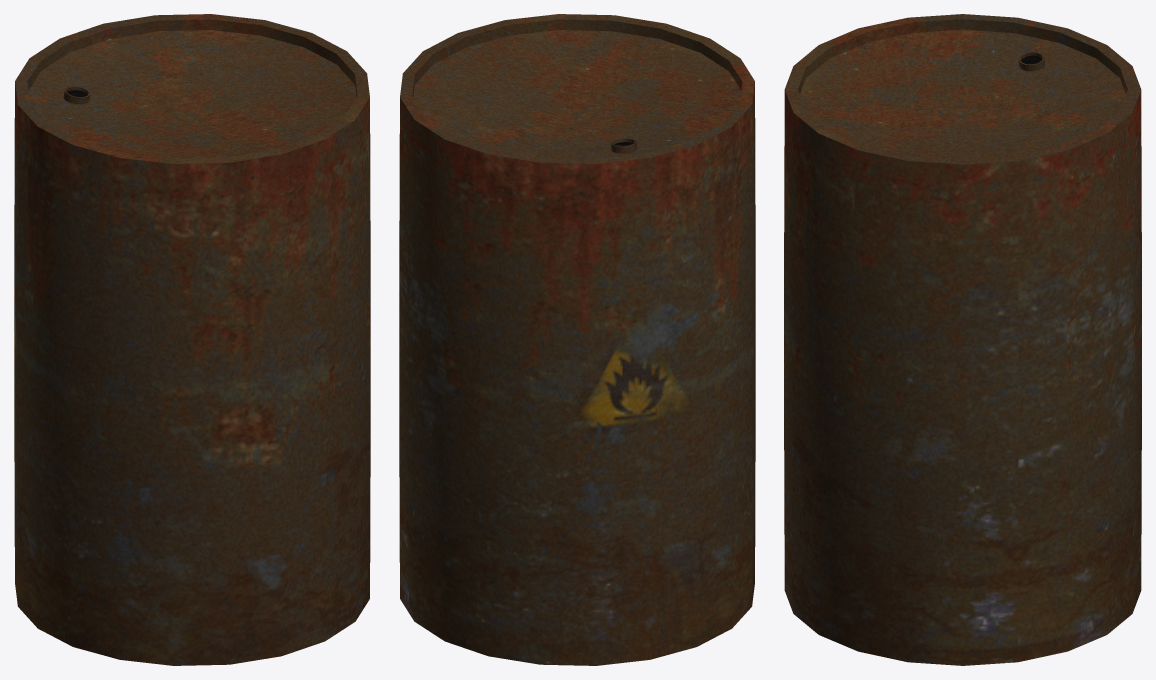
Rendered from container_rbarrel.dae.
3 renders of one model, left to right at view 1: azimuth 30°, elevation 25°; view 2: azimuth 150°, elevation 25°; view 3: azimuth 270°, elevation 25°, orthographic.
Visible parts, largest first — view 1: polySurface1; view 2: polySurface1; view 3: polySurface1.
Boxes of the visible parts, left/top/right/bottom form: polySurface1: left=14, top=14, right=370, bottom=665; polySurface1: left=399, top=14, right=755, bottom=665; polySurface1: left=784, top=14, right=1141, bottom=665.
Size of what is drawn, in the model's own units: 0.6677 by 1.03 by 0.6677.
